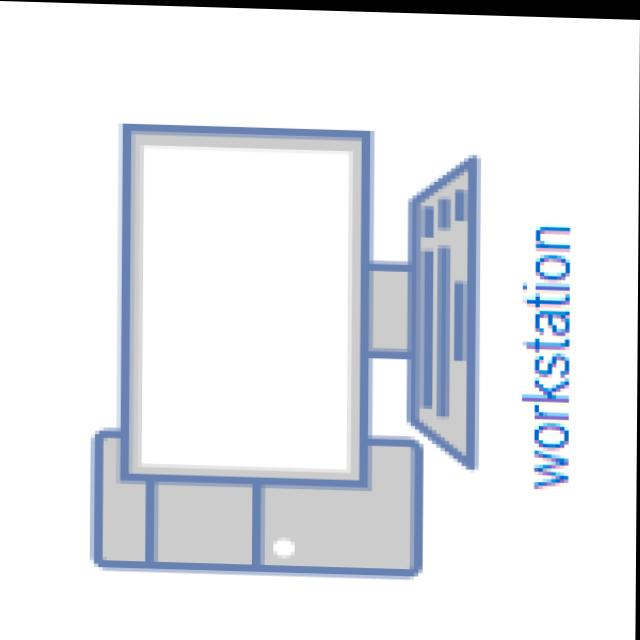Client: (51, 40, 511, 621)
